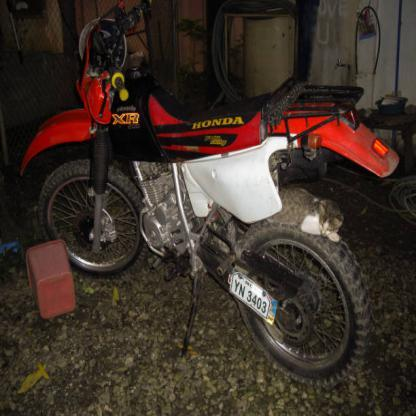Motorcycle: (20, 0, 395, 391)
